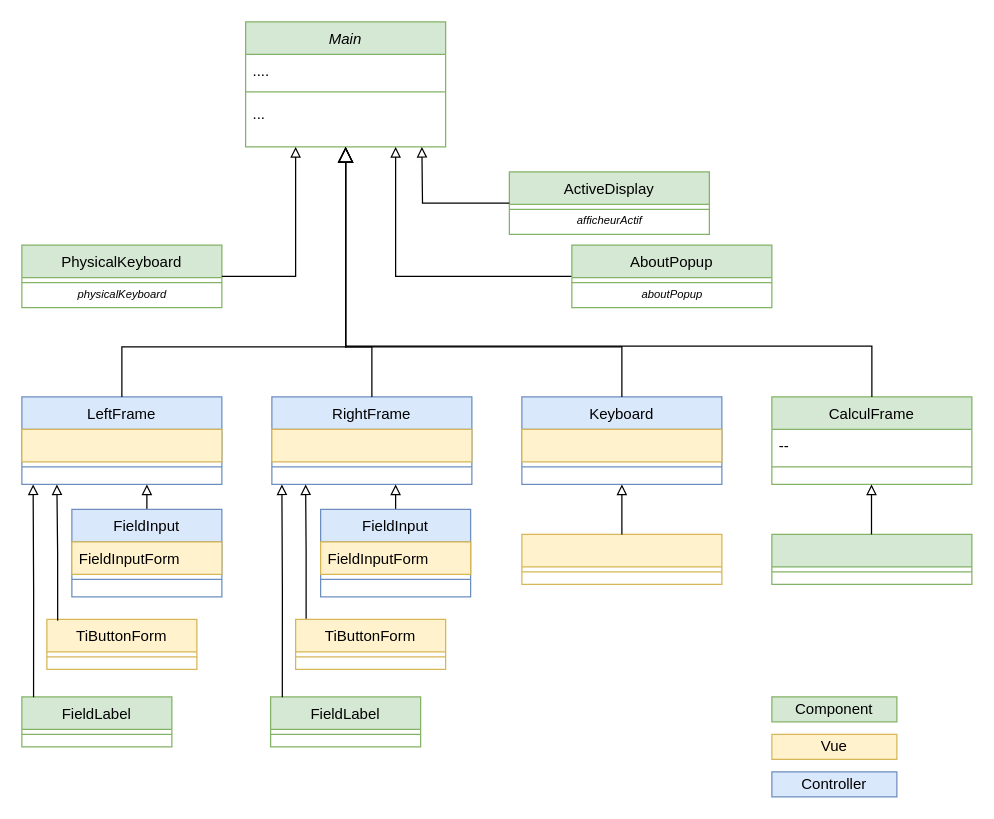
This 994x819 diagram has some shape labels left out. The shapes that lost their labels are listed below. From the top down, each one's centre as x and y in pixels, then its label:
At pixel 121 445: "LeftFrameForm".
At pixel 371 445: "RightFrameForm".
At pixel 621 445: "KeyboardForm".
At pixel 621 558: "KeyboardKeyForm".
At pixel 871 558: "FieldResult".
